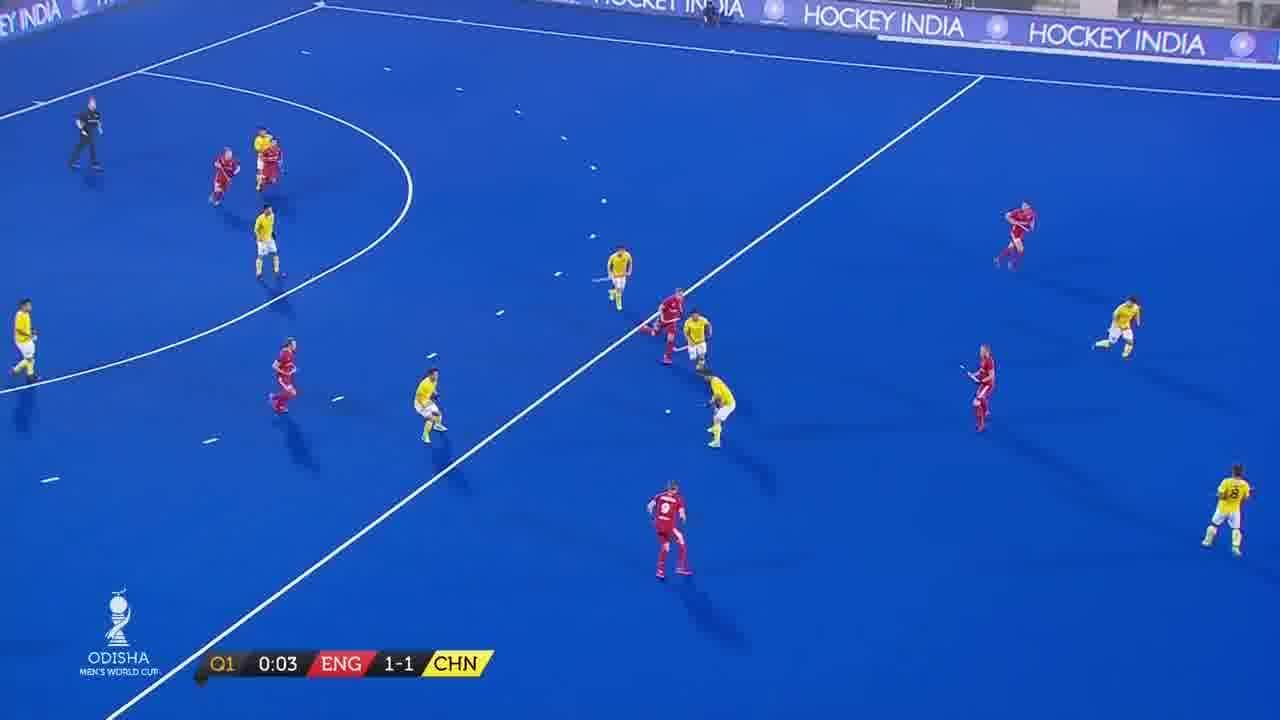ball: (661, 404, 674, 417)
